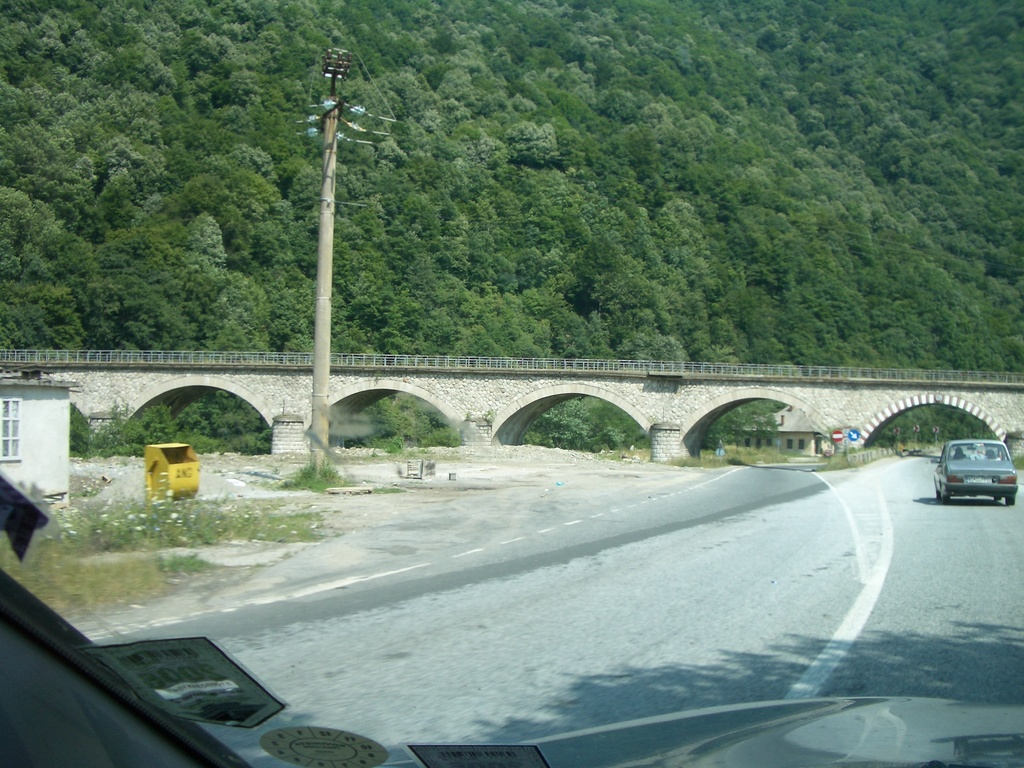Car: (928, 435, 1020, 503)
